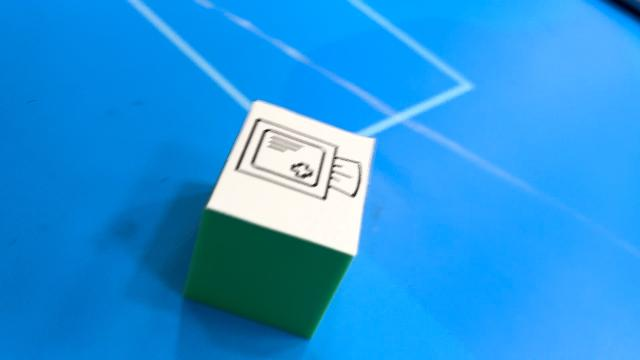napkin: (184, 101, 376, 341)
